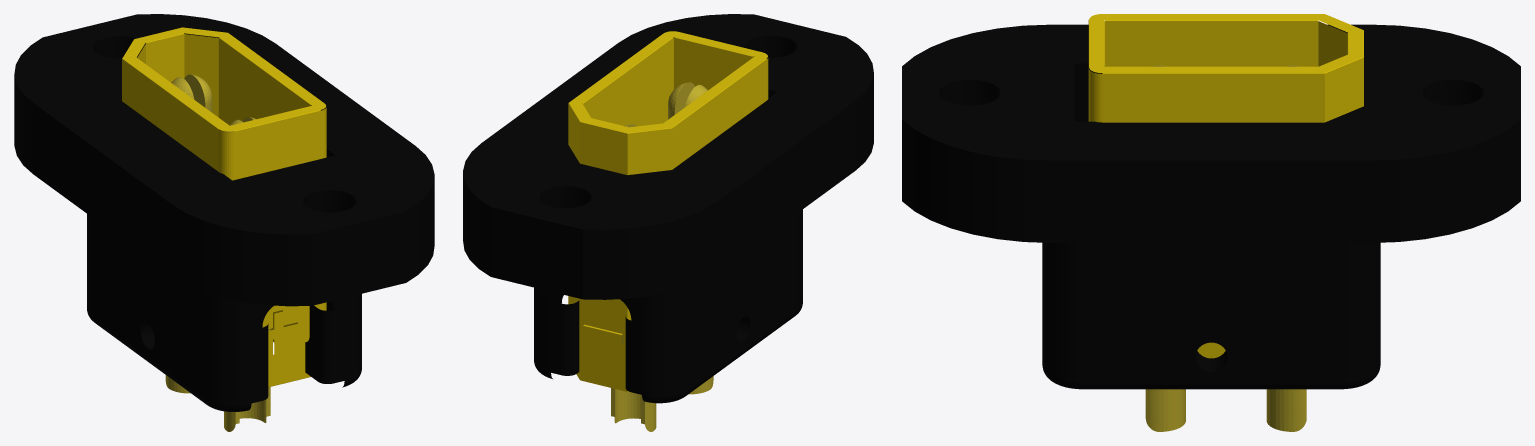
File: battery-connector.glb
3 renders of one model, left to right at view 1: azimuth 30°, elevation 25°; view 2: azimuth 150°, elevation 25°; view 3: azimuth 270°, elevation 25°, orthographic. The views are drawn at different scales.
Parts seen in each view (by area): view 1: world; view 2: world; view 3: world.
Boxes of the visible parts, box(x1,y1,x2,y2) form: world: box(14, 14, 434, 431); world: box(463, 14, 873, 431); world: box(902, 14, 1520, 431).
Bounding box in the file's own units: 0.012 × 0.0155 × 0.0231.
